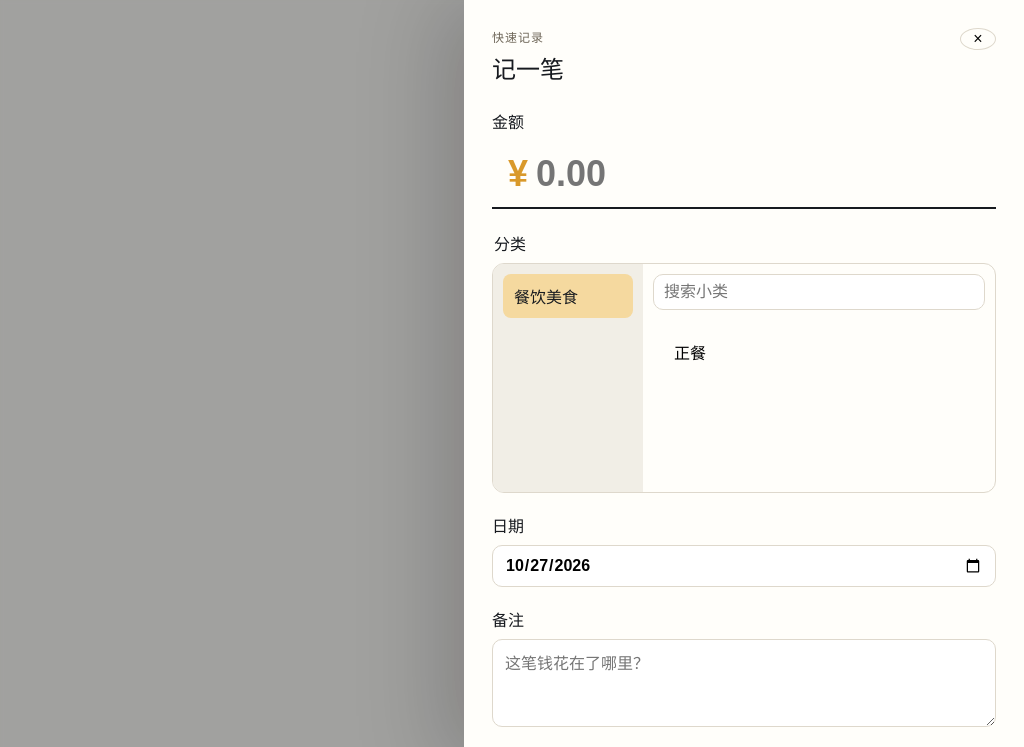
Test: ExpenseDrawer › does not save an invalid amount
Type "0" into the field labelled "金额" at {"x": 758, "y": 174}, box [536,153,980,195]
(page scrolled)
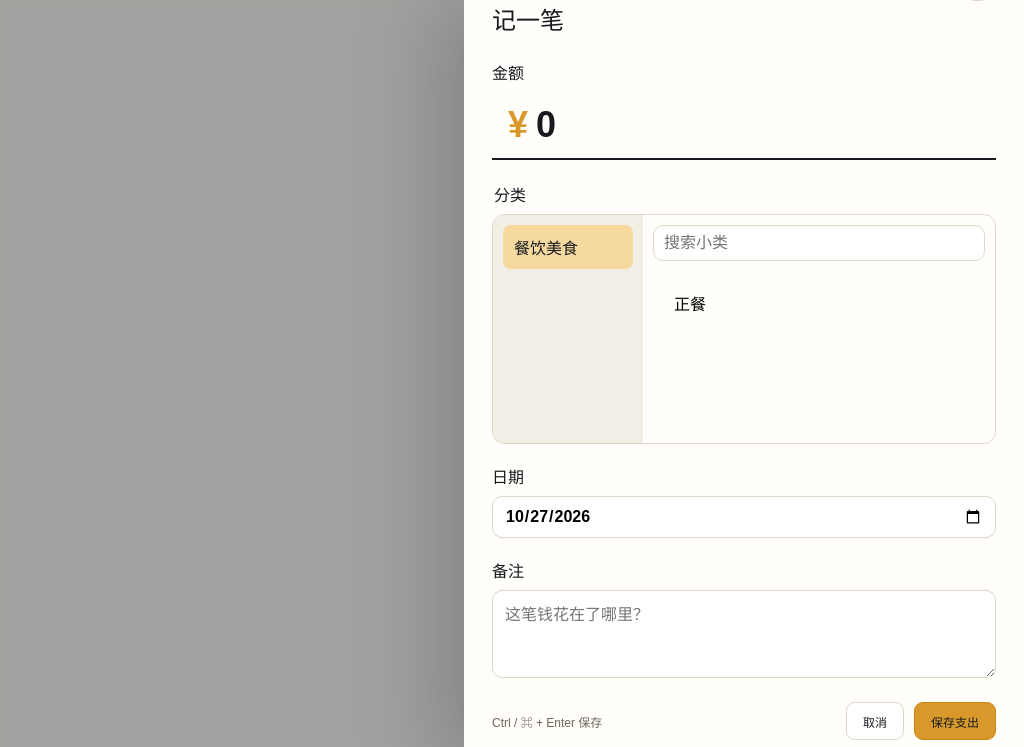
Click the button "保存支出" at {"x": 955, "y": 721}, box [914,702,996,740]
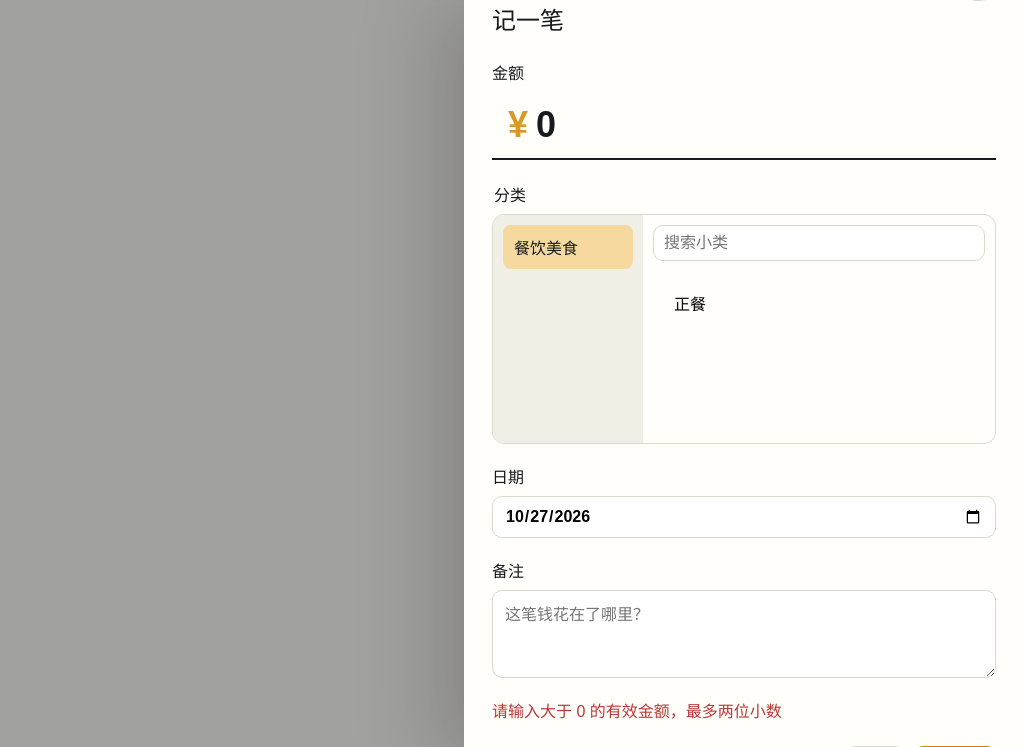
Expected: the message shows "请输入大于 0 的有效金额", [492,703,782,720]
